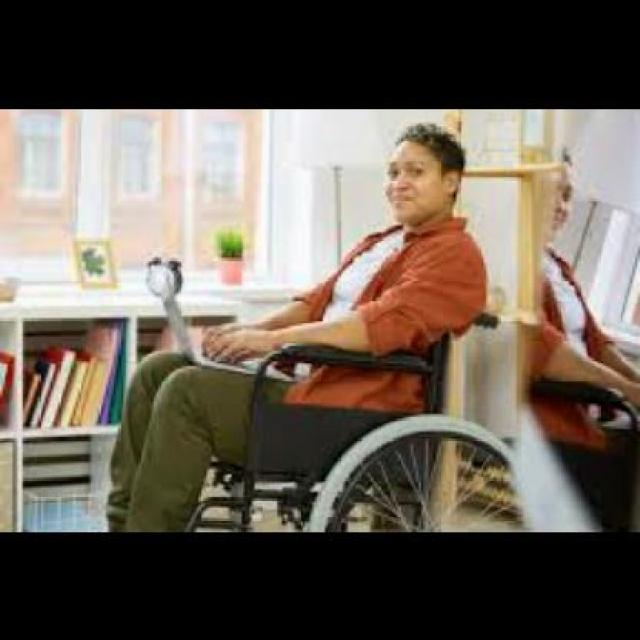wheelchairs: (183, 308, 524, 534)
